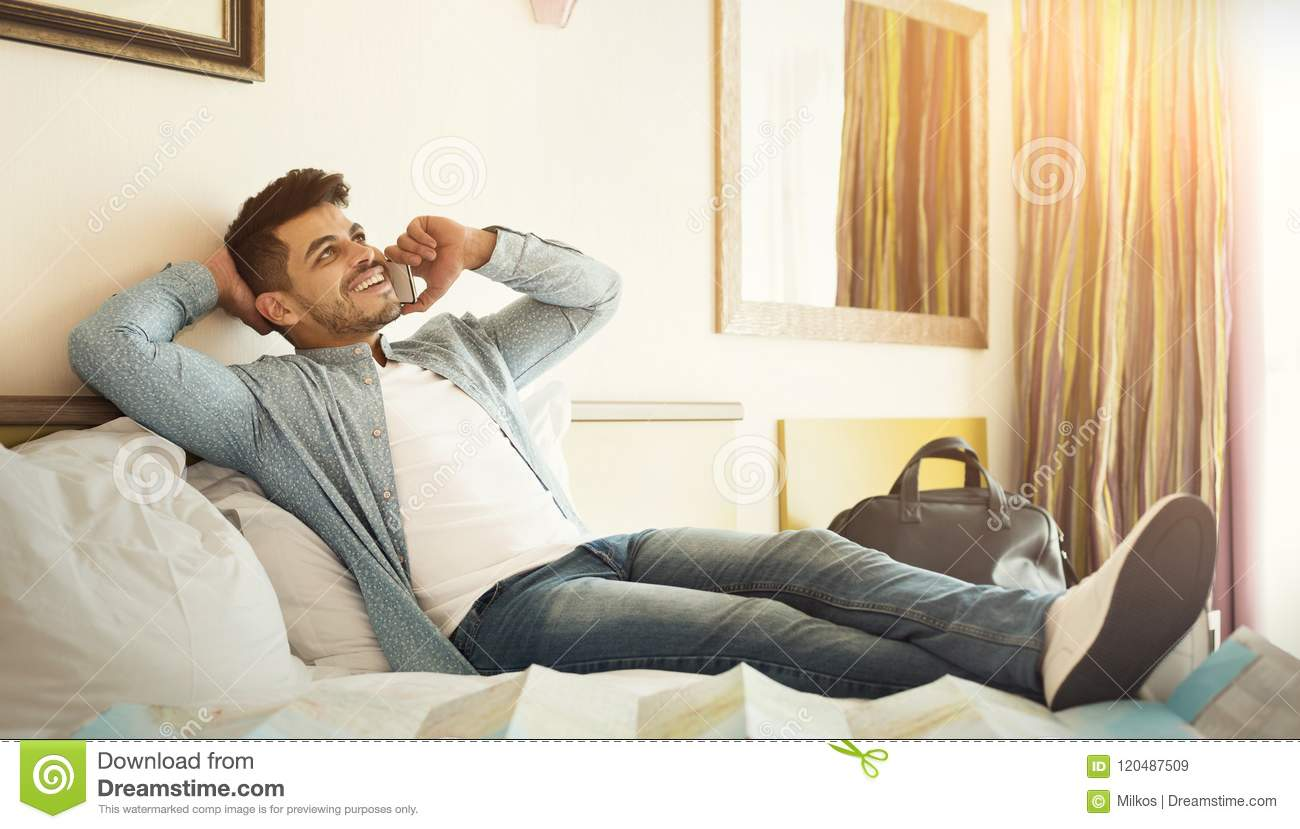phone: (385, 259, 422, 309)
talk: (295, 207, 479, 334)
